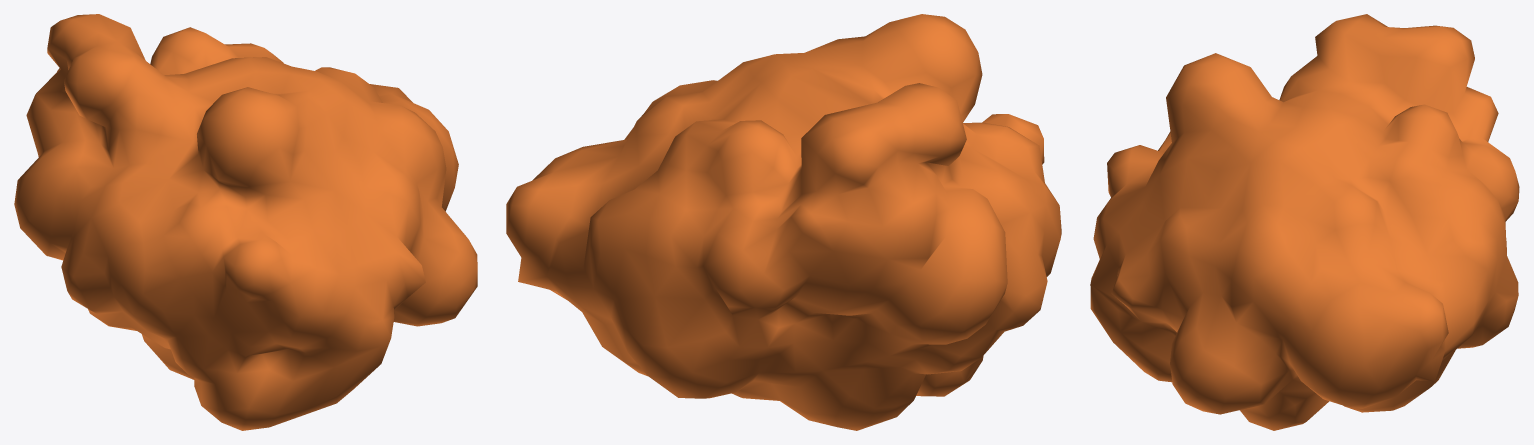
The model's file is p_nimbolium_splattershape.fbx.
3 views of the same model, side by side, from view 1: azimuth 30°, elevation 25°; view 2: azimuth 150°, elevation 25°; view 3: azimuth 270°, elevation 25° (orthographic). The views are drawn at different scales.
Visible parts, largest first — view 1: gel.003; view 2: gel.003; view 3: gel.003.
Part boxes in pixels (left/top/right/bottom): gel.003: left=14, top=14, right=477, bottom=430; gel.003: left=506, top=14, right=1061, bottom=430; gel.003: left=1090, top=14, right=1519, bottom=430.
Size of the model in its own units: 9.77 by 7.41 by 8.84.
